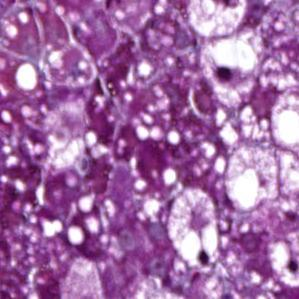ballooning: (198, 37, 261, 112), (166, 186, 221, 271), (186, 0, 249, 38), (267, 228, 299, 289)
